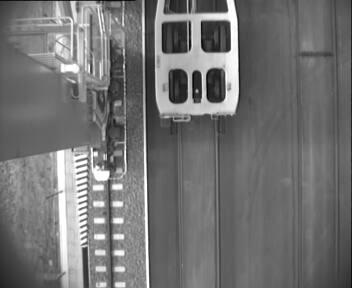twist_lock_2: (165, 65, 229, 108)
